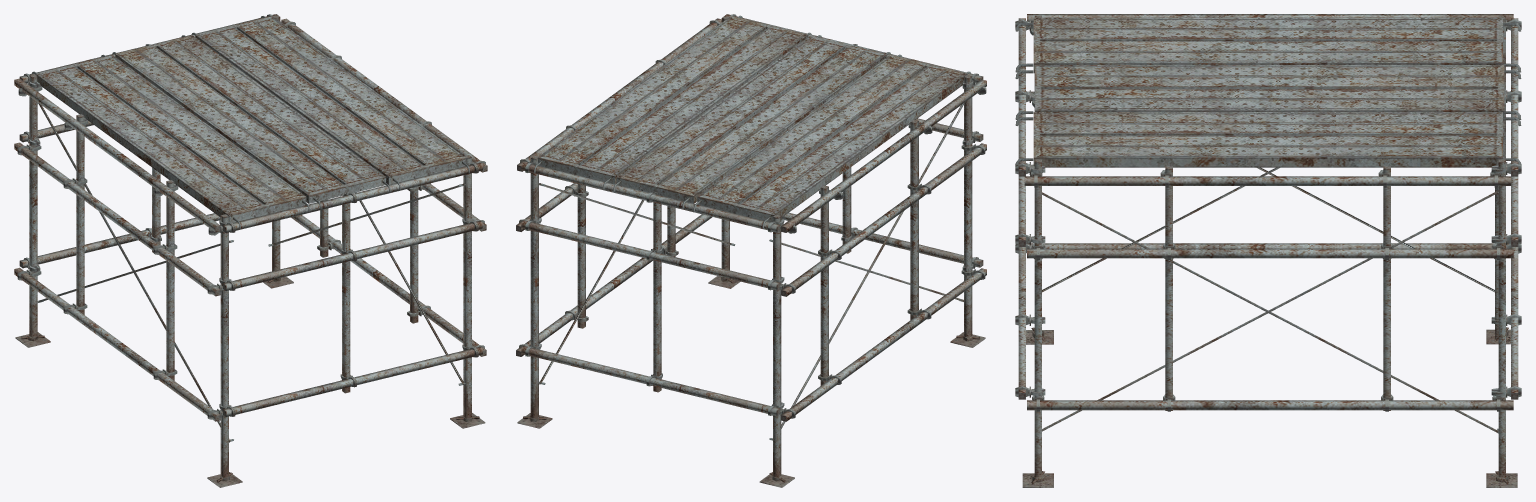
File: sm22_085_scaffold02a.fbx
The picture shows the model from 3 angles, left to right: view 1: azimuth 30°, elevation 25°; view 2: azimuth 150°, elevation 25°; view 3: azimuth 270°, elevation 25°; orthographic projection. The views are drawn at different scales.
Parts seen in each view (by area): view 1: LOD_1_Group_1_Sub_1__sm22_085_Scaffold02A_A_Mat, LOD_1_Group_2_Sub_1__sm22_085_Scaffold02A_A_Mat; view 2: LOD_1_Group_1_Sub_1__sm22_085_Scaffold02A_A_Mat, LOD_1_Group_2_Sub_1__sm22_085_Scaffold02A_A_Mat; view 3: LOD_1_Group_1_Sub_1__sm22_085_Scaffold02A_A_Mat, LOD_1_Group_2_Sub_1__sm22_085_Scaffold02A_A_Mat.
Boxes of the visible parts, left/top/right/bottom form: LOD_1_Group_1_Sub_1__sm22_085_Scaffold02A_A_Mat: left=14, top=14, right=487, bottom=487; LOD_1_Group_2_Sub_1__sm22_085_Scaffold02A_A_Mat: left=17, top=14, right=485, bottom=419; LOD_1_Group_1_Sub_1__sm22_085_Scaffold02A_A_Mat: left=516, top=14, right=986, bottom=487; LOD_1_Group_2_Sub_1__sm22_085_Scaffold02A_A_Mat: left=519, top=14, right=986, bottom=418; LOD_1_Group_1_Sub_1__sm22_085_Scaffold02A_A_Mat: left=1015, top=14, right=1521, bottom=487; LOD_1_Group_2_Sub_1__sm22_085_Scaffold02A_A_Mat: left=1015, top=19, right=1521, bottom=411.
Bounding box in the file's own units: 4.35 × 4 × 5.71.
